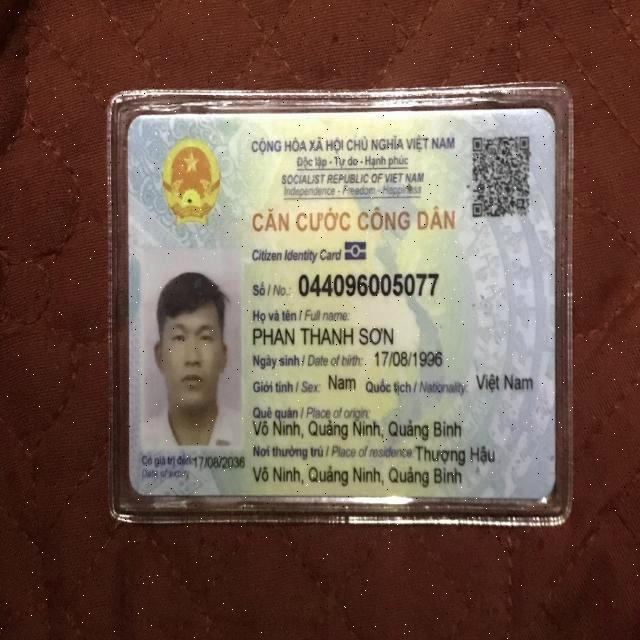current_place: (252, 460, 463, 490), (413, 440, 499, 466)
dob: (369, 342, 446, 367)
expire_date: (194, 449, 244, 473)
gender: (323, 369, 358, 391)
id: (299, 264, 439, 298)
name: (250, 323, 399, 346)
nationality: (473, 367, 537, 396)
origin_place: (250, 417, 463, 443)
qr: (466, 132, 532, 220)
